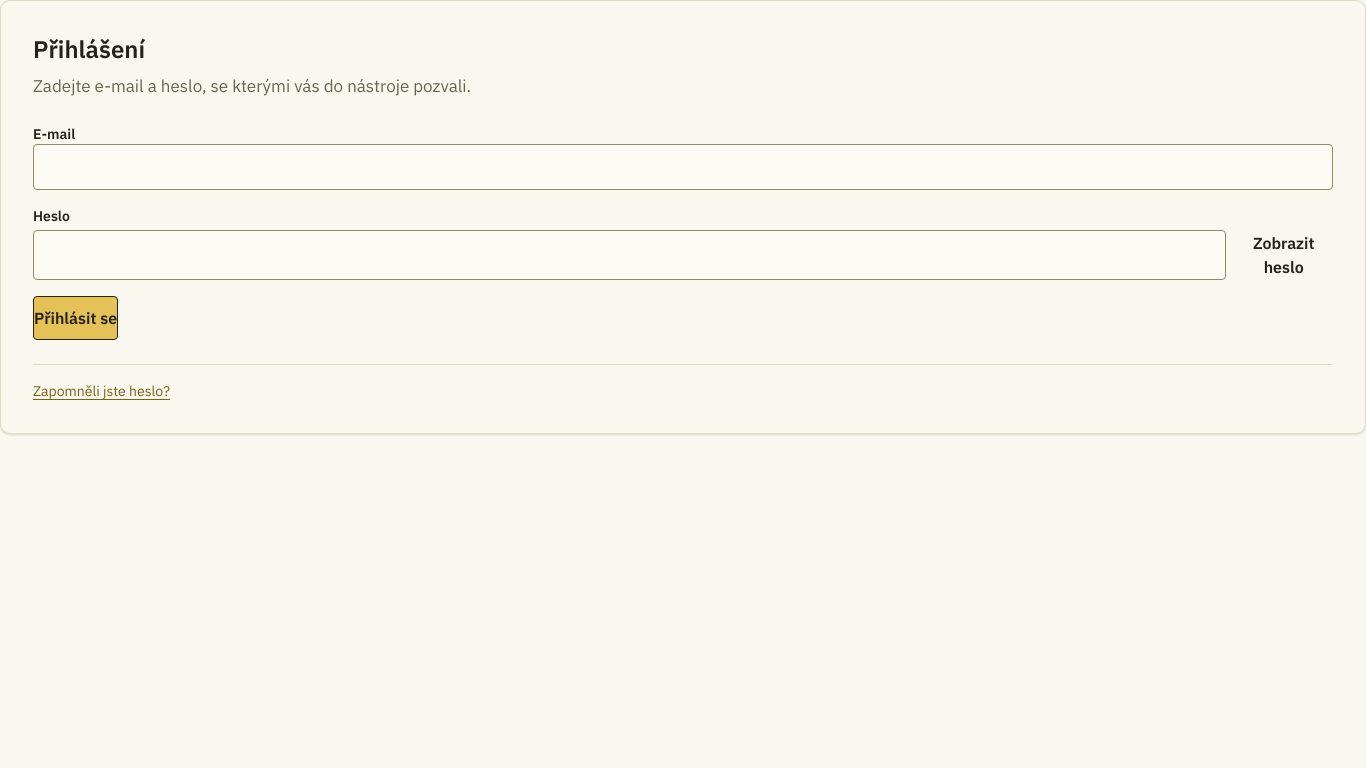
LoginForm › po chybě nechá e-mail vyplněný a heslo vyprázdní
Step 1. Type "petr@example.com" into the field labelled "E-mail" → [683, 167], box [33,144,1333,190]
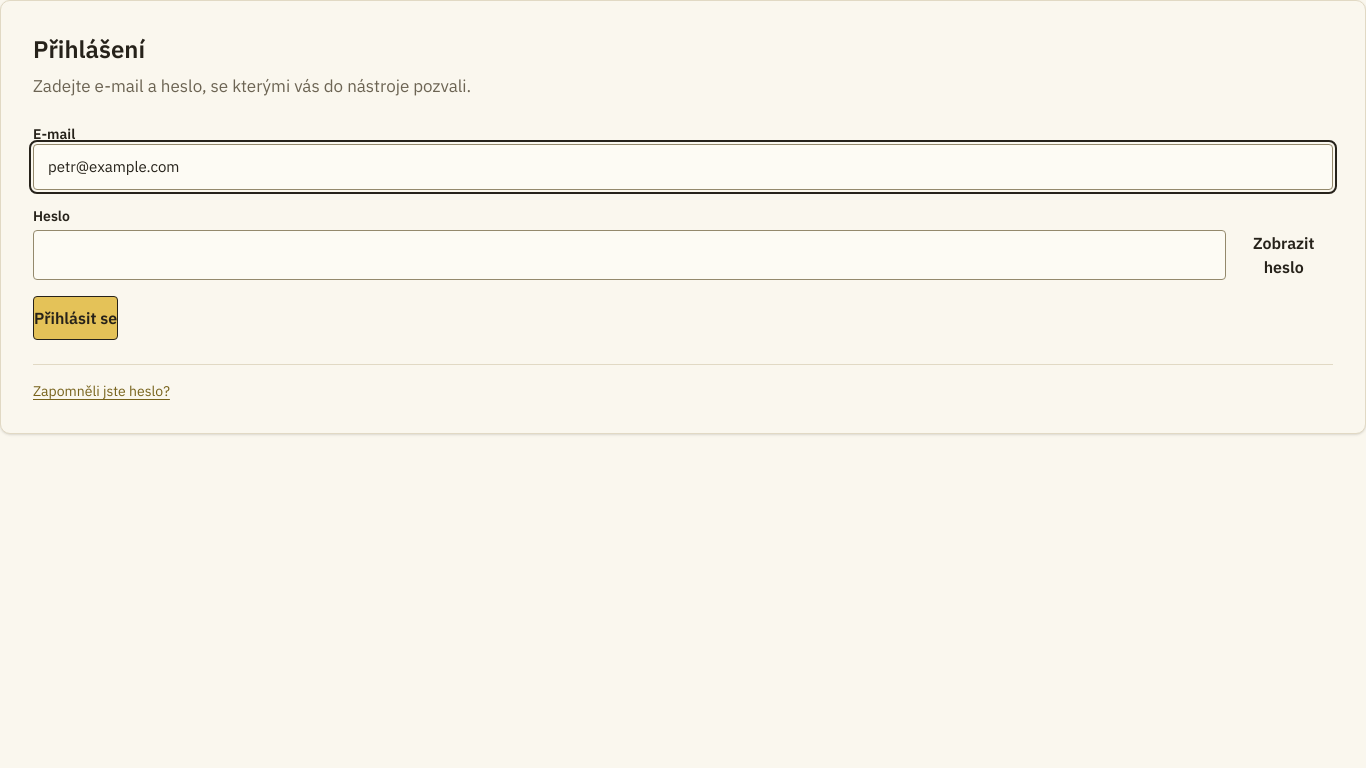
Step 2. Type "spatne-heslo" into the password field labelled "Heslo" → [630, 255], box [33,230,1226,280]
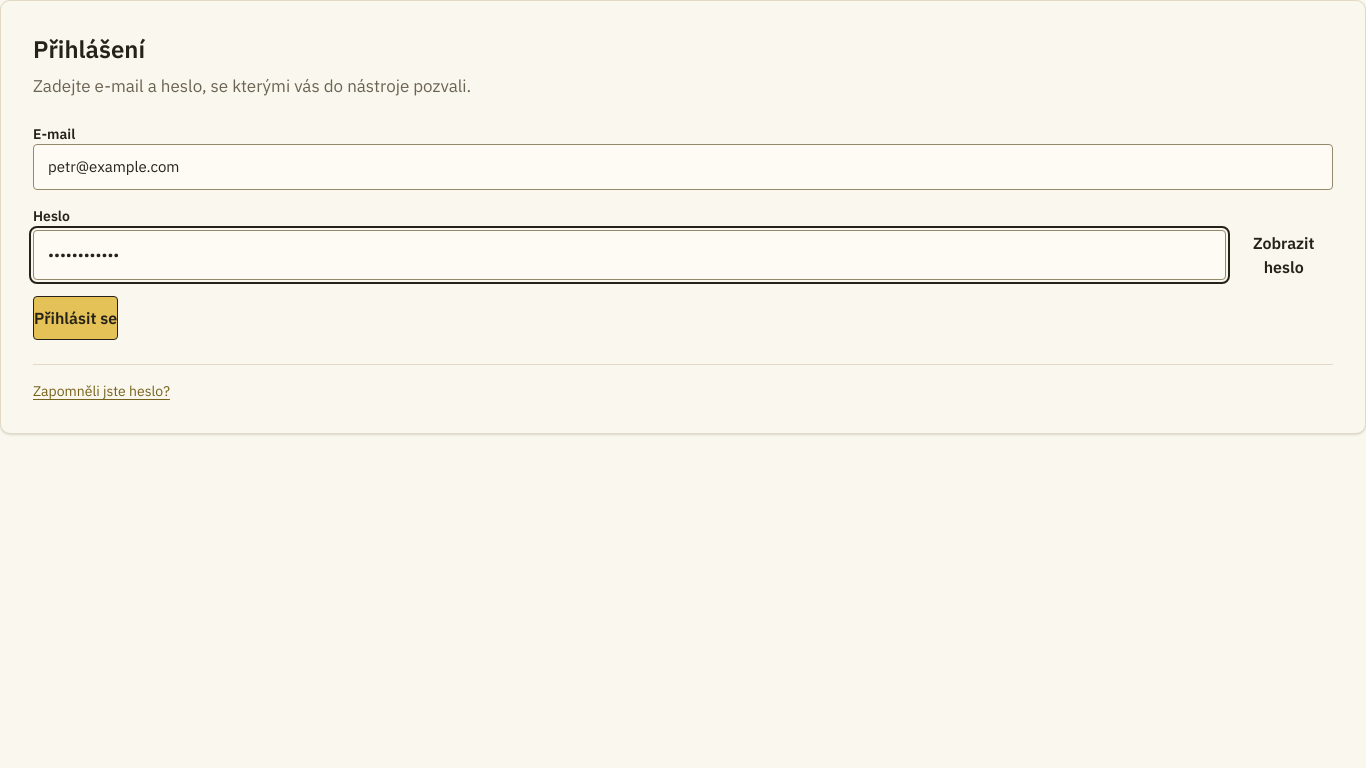
Step 3. Click the button "Přihlásit se" → [76, 318], box [33,296,118,340]
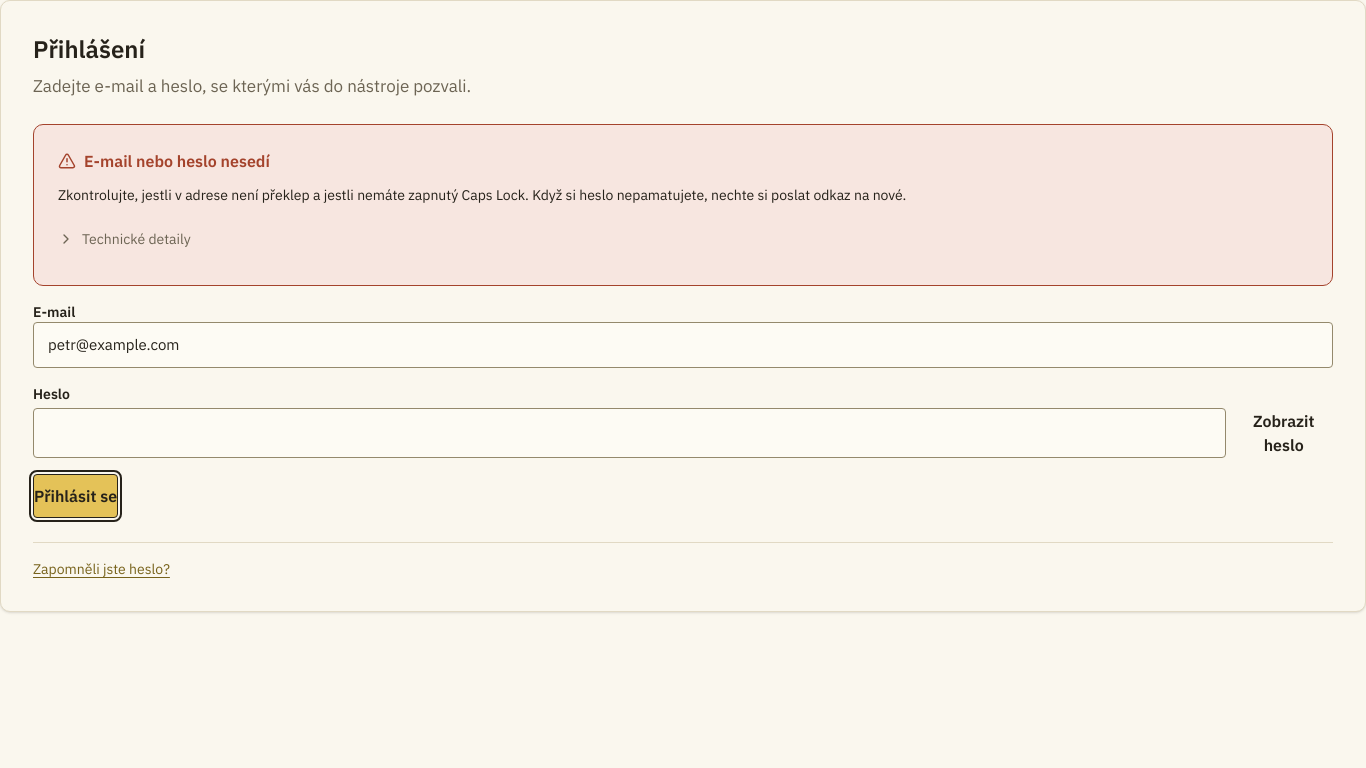
Now the heading "E-mail nebo heslo nesedí" is shown, box [58,151,270,171]
Now the password field labelled "Heslo" is empty, box [33,408,1226,458]
